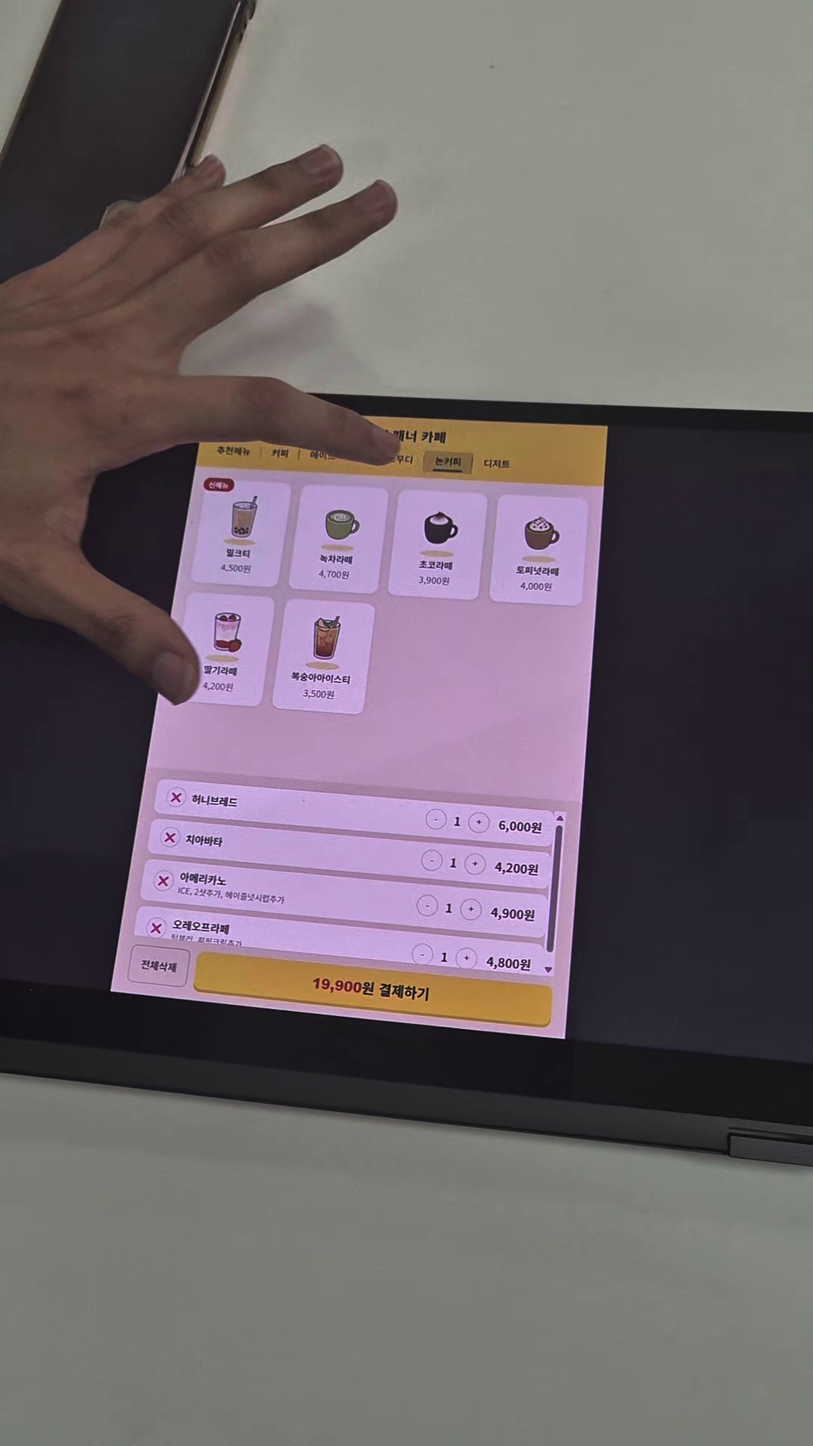action_button: (195, 952, 553, 1027), (127, 945, 189, 987)
cart_item: (139, 859, 547, 938), (133, 905, 543, 980), (146, 820, 550, 890), (154, 779, 555, 848)
category_tab: (355, 452, 414, 466), (216, 445, 251, 459), (308, 448, 340, 463), (265, 446, 296, 461), (481, 458, 513, 471), (431, 455, 463, 468)
menu_back: (270, 598, 376, 715), (168, 592, 275, 706), (387, 489, 488, 601), (189, 479, 292, 588), (288, 483, 389, 594), (490, 495, 589, 605)
menu_name: (291, 671, 351, 686), (514, 565, 561, 578), (317, 553, 355, 566), (417, 559, 454, 572), (202, 665, 239, 678), (223, 548, 252, 559)
menu_price: (201, 681, 235, 692), (302, 689, 335, 700), (219, 564, 251, 575), (318, 569, 350, 580), (418, 575, 450, 586), (520, 581, 552, 592)
